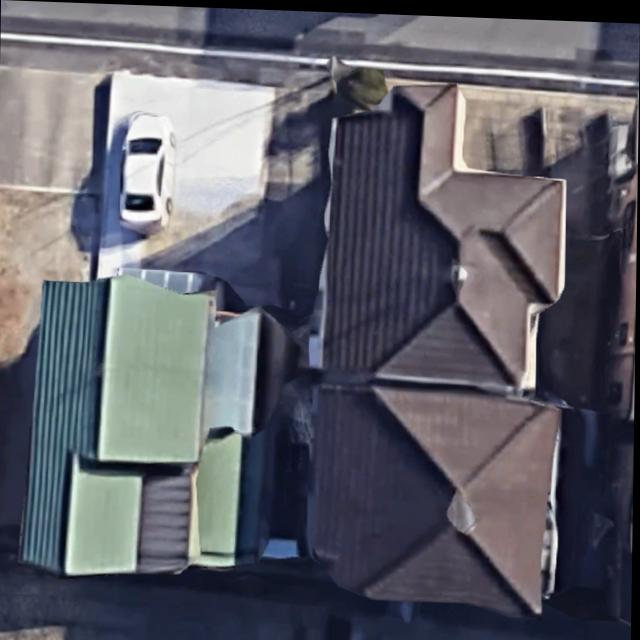Batiment: (22, 268, 293, 575), (323, 83, 565, 387), (309, 382, 561, 612)
